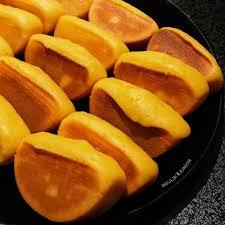pukis: (9, 130, 117, 220)
